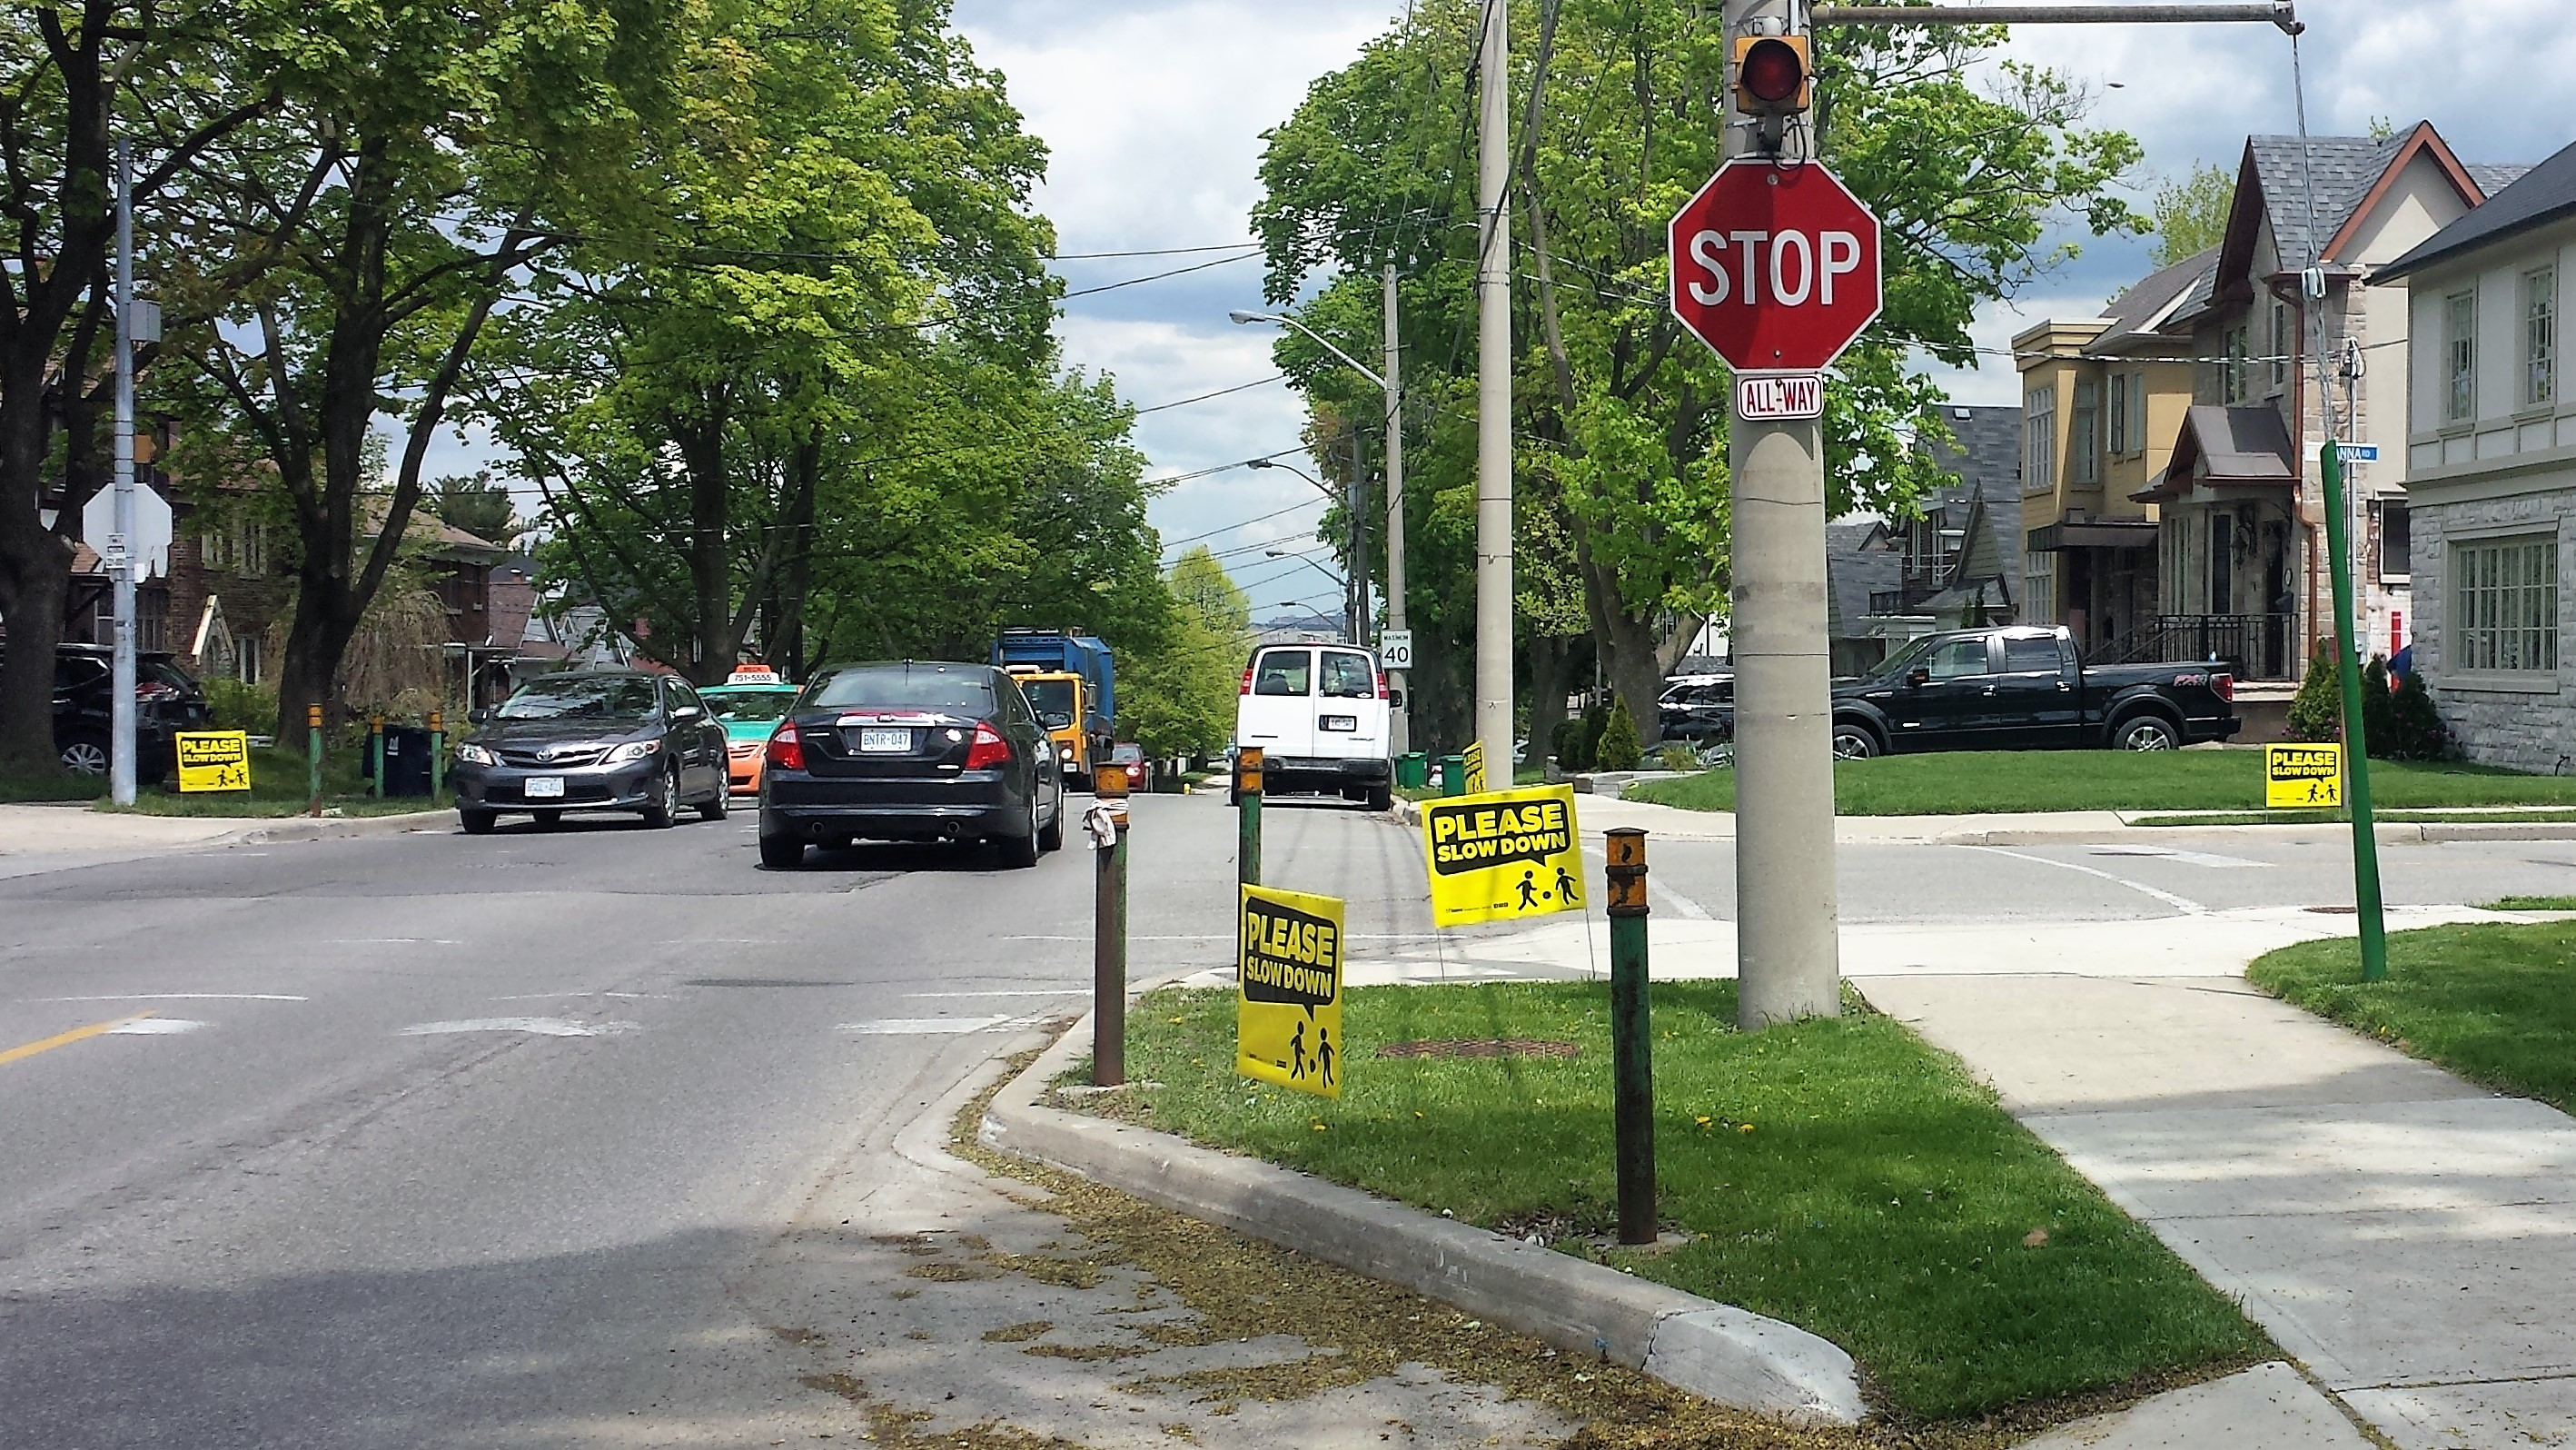sign_stop: (1663, 154, 1884, 374)
